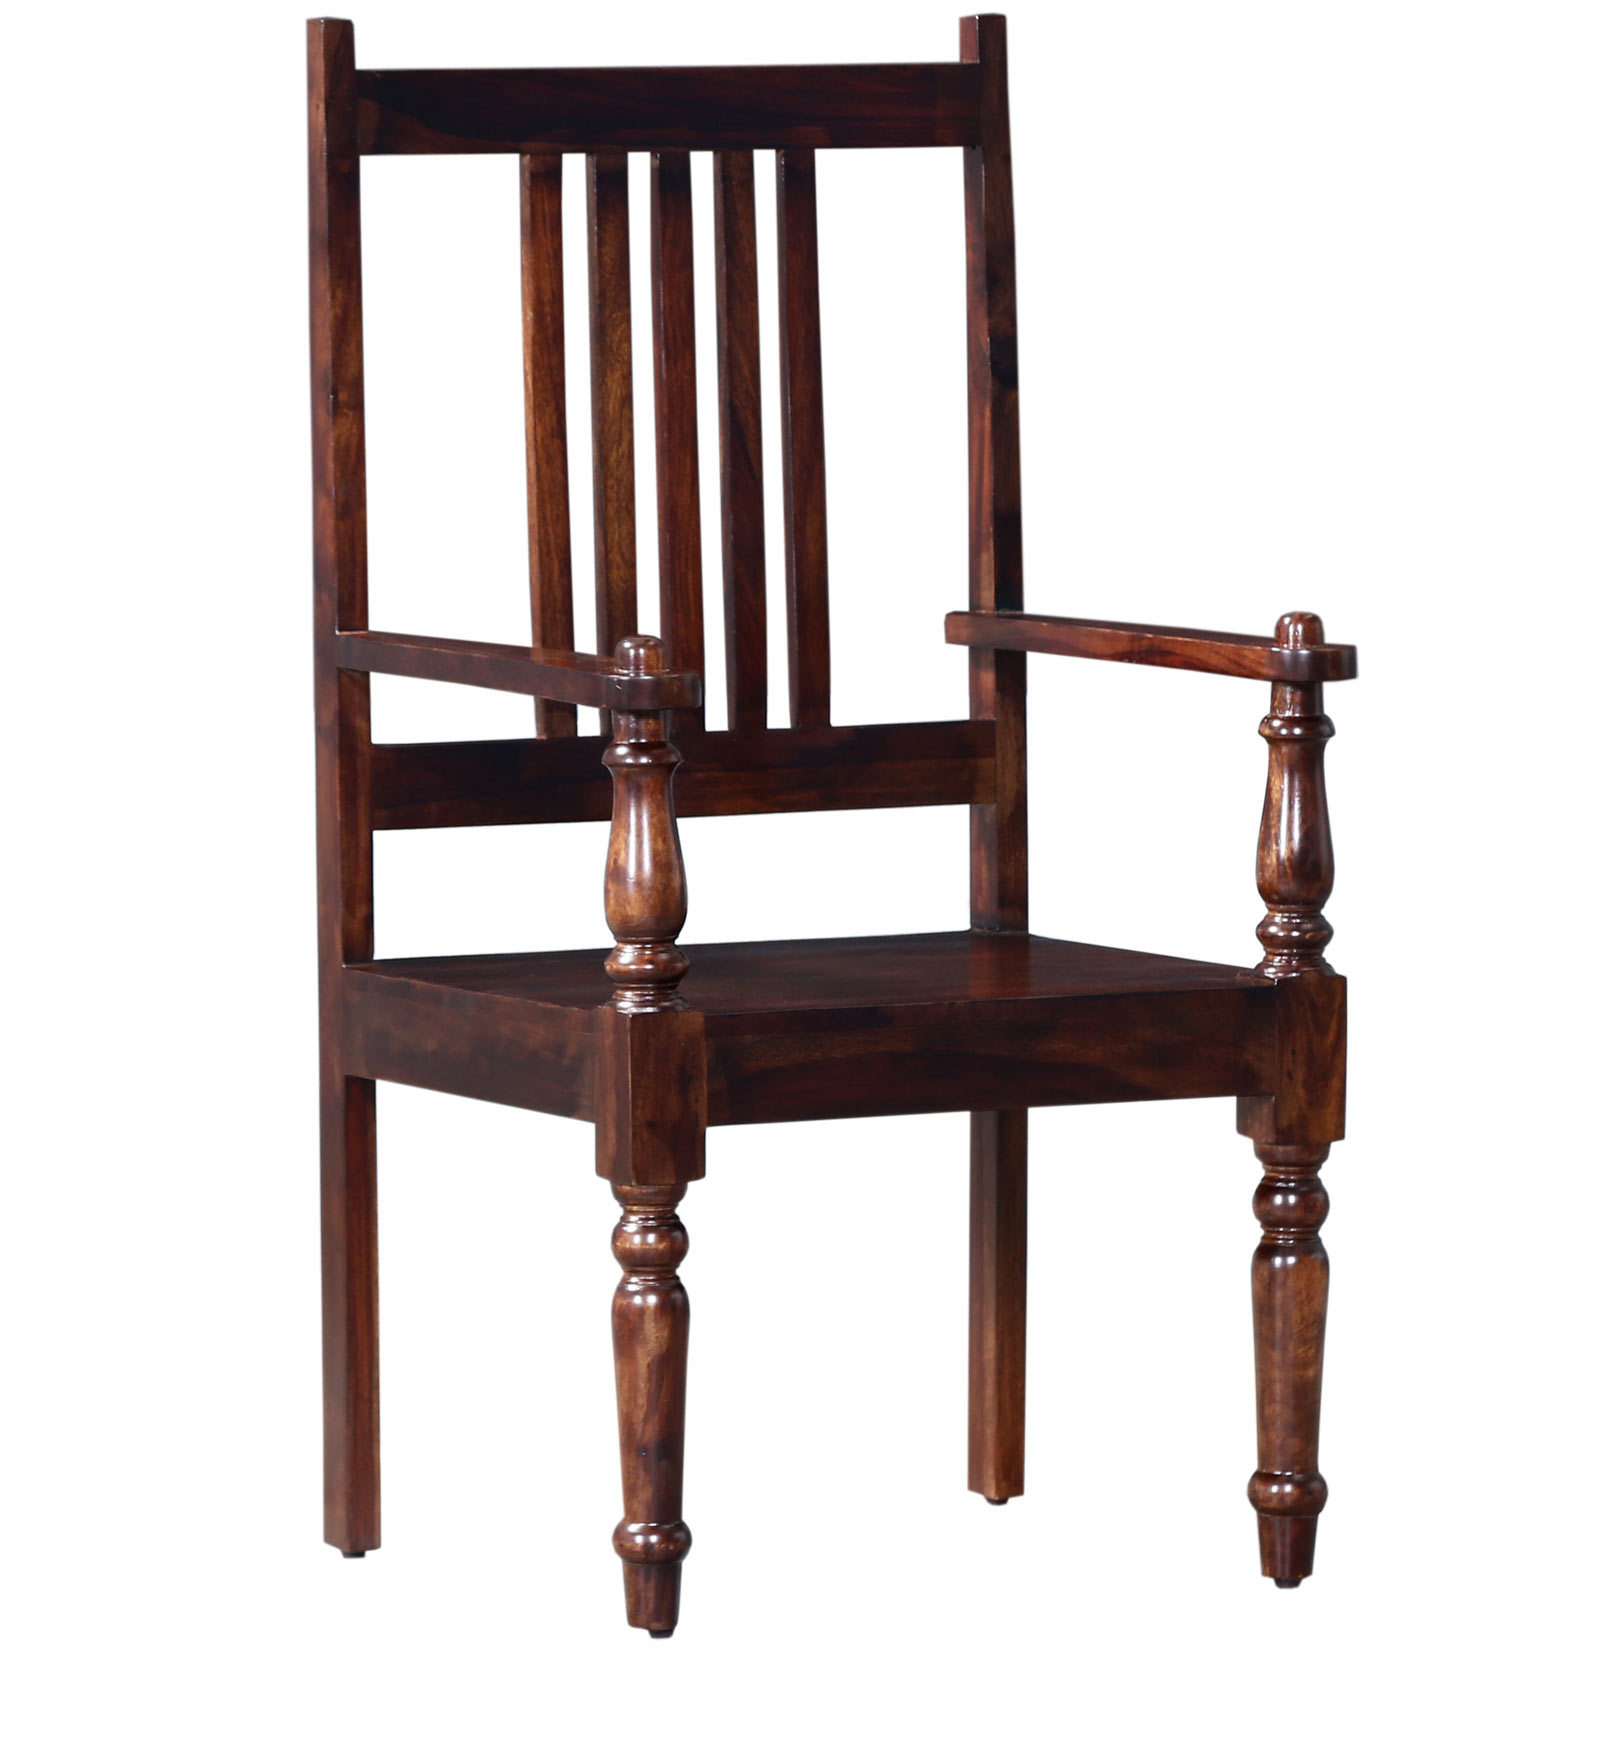Raylestone Arm Chair in Provincial Teak Finish by Amberville: (254, 12, 1407, 1656)
